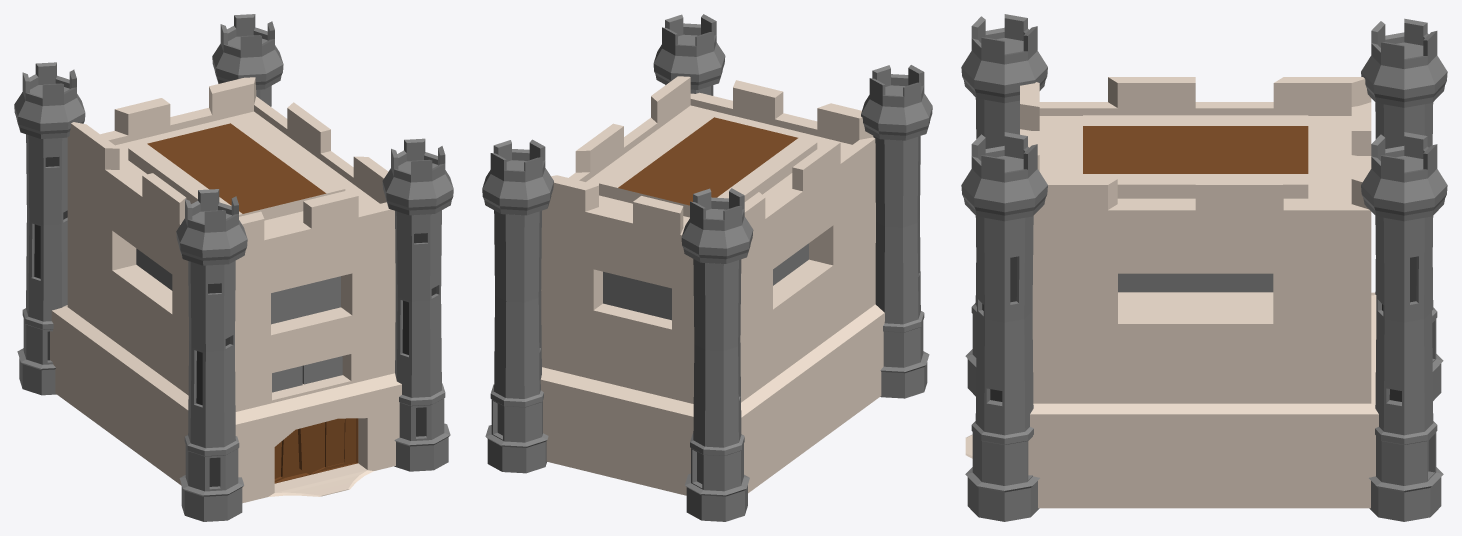
File: castle.fbx
3 views of the same model, side by side, from view 1: azimuth 30°, elevation 25°; view 2: azimuth 150°, elevation 25°; view 3: azimuth 270°, elevation 25° (orthographic). The views are drawn at different scales.
Visible parts, largest first — view 1: Cube; view 2: Cube; view 3: Cube.
Boxes of the visible parts, bbox=[...] form: Cube: bbox=[14, 14, 453, 521]; Cube: bbox=[482, 14, 932, 521]; Cube: bbox=[961, 14, 1447, 521].
Size of the model in its own units: 494 by 540 by 656.
